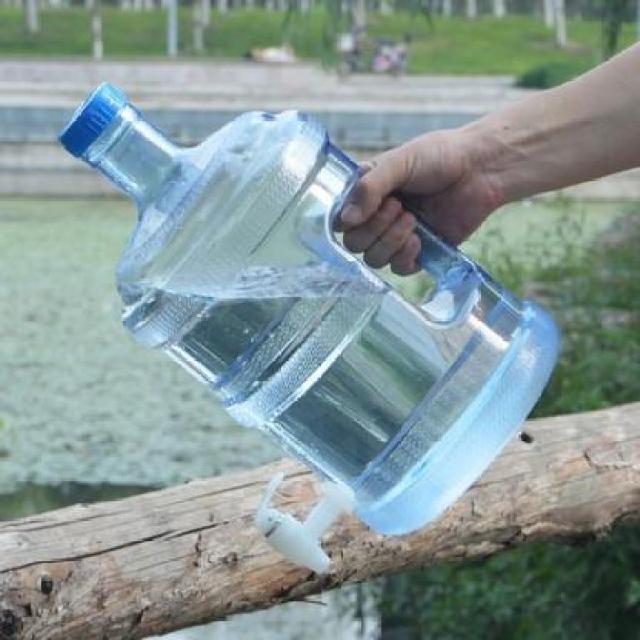coolerbottle: (52, 80, 562, 542)
